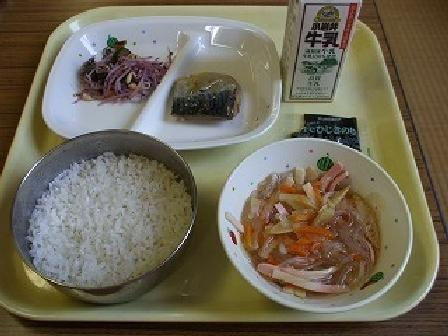Fish: (163, 67, 251, 133)
Milk: (278, 0, 367, 108)
Rice: (18, 128, 193, 305)
Salad: (74, 34, 165, 108)
Soups: (215, 149, 423, 305)
